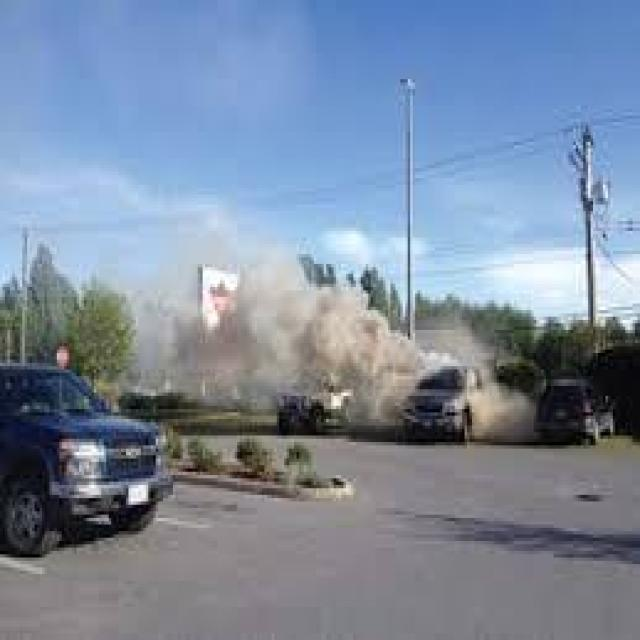smoke: (222, 229, 410, 436), (473, 362, 530, 428)
